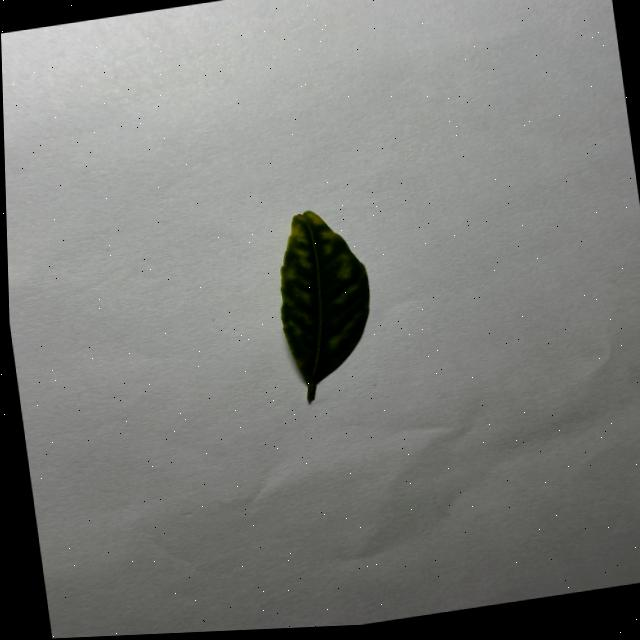greening: (279, 210, 368, 401)
